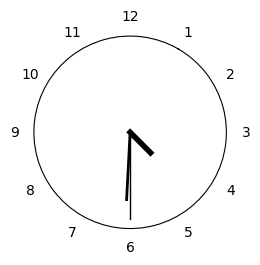12: (122, 10, 139, 23)
circle: (34, 36, 227, 229)
hours: (126, 128, 154, 156)
minutes: (125, 136, 130, 201)
seconds: (130, 141, 133, 221)
